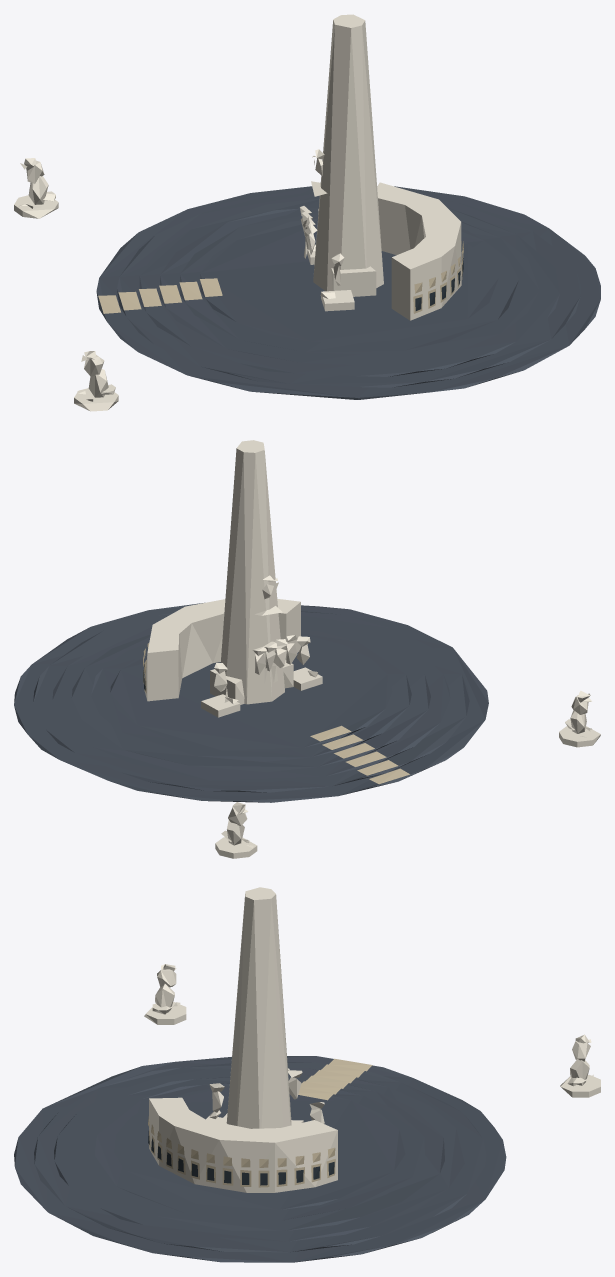
File: national-monument-on-the-dam.lod1.glb
3 views of the same model, one above another, from view 1: azimuth 30°, elevation 25°; view 2: azimuth 150°, elevation 25°; view 3: azimuth 270°, elevation 25° (orthographic). The views are drawn at different scales.
Parts seen in each view (by area): view 1: national-monument-on-the-dam; view 2: national-monument-on-the-dam; view 3: national-monument-on-the-dam.
Part boxes in pixels (bbox=[...]): national-monument-on-the-dam: bbox=[14, 14, 600, 411]; national-monument-on-the-dam: bbox=[14, 440, 600, 858]; national-monument-on-the-dam: bbox=[14, 887, 600, 1262].
Bounding box in the file's own units: 45.31 × 22 × 44.06.
